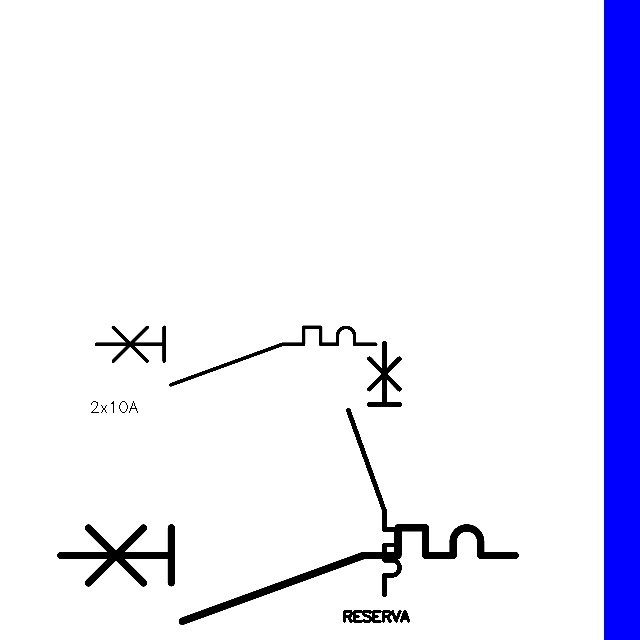interruptor_termomagnetico: (49, 516, 527, 633), (89, 320, 383, 392), (342, 337, 406, 601)
